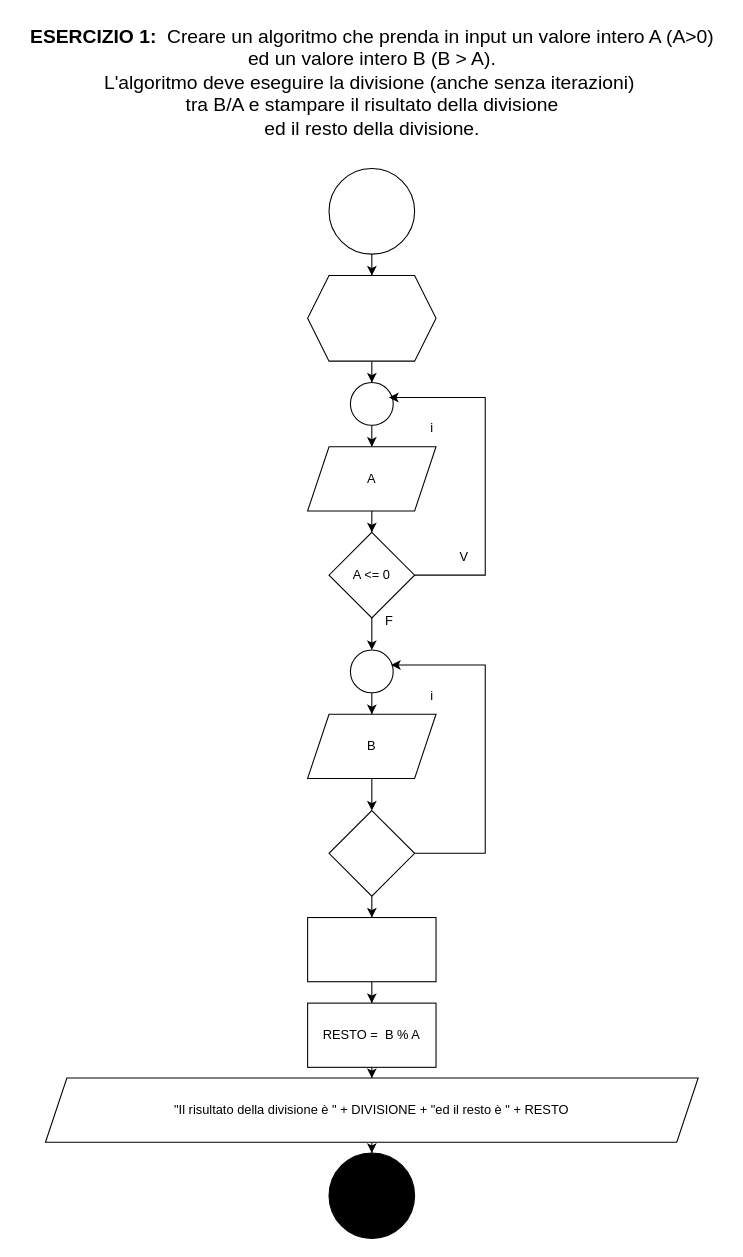
Image size: 743x1257. Some labels were removed from this diagram. Each missing label, with the centre of its shape:
"A >= B" belongs at (371,852).
"A, B, DIVISIONE, RESTO" belongs at (371,317).
"DIVISIONE = B / A" belongs at (371,949).
